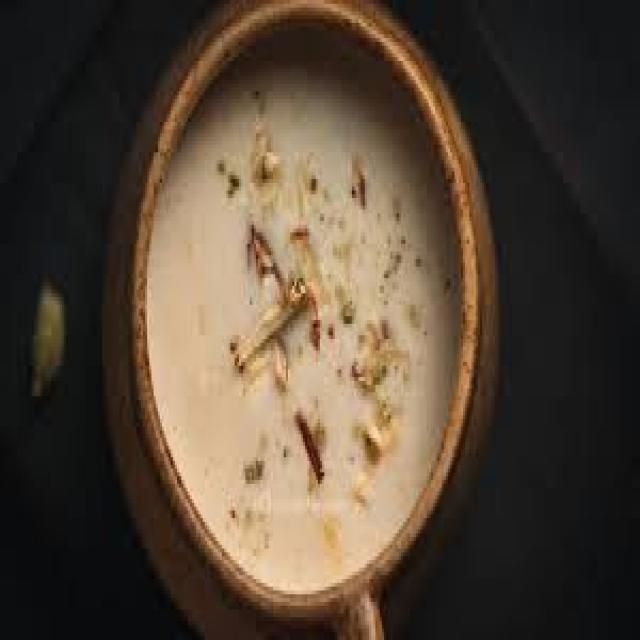paal kolukattai: (147, 64, 469, 596)
